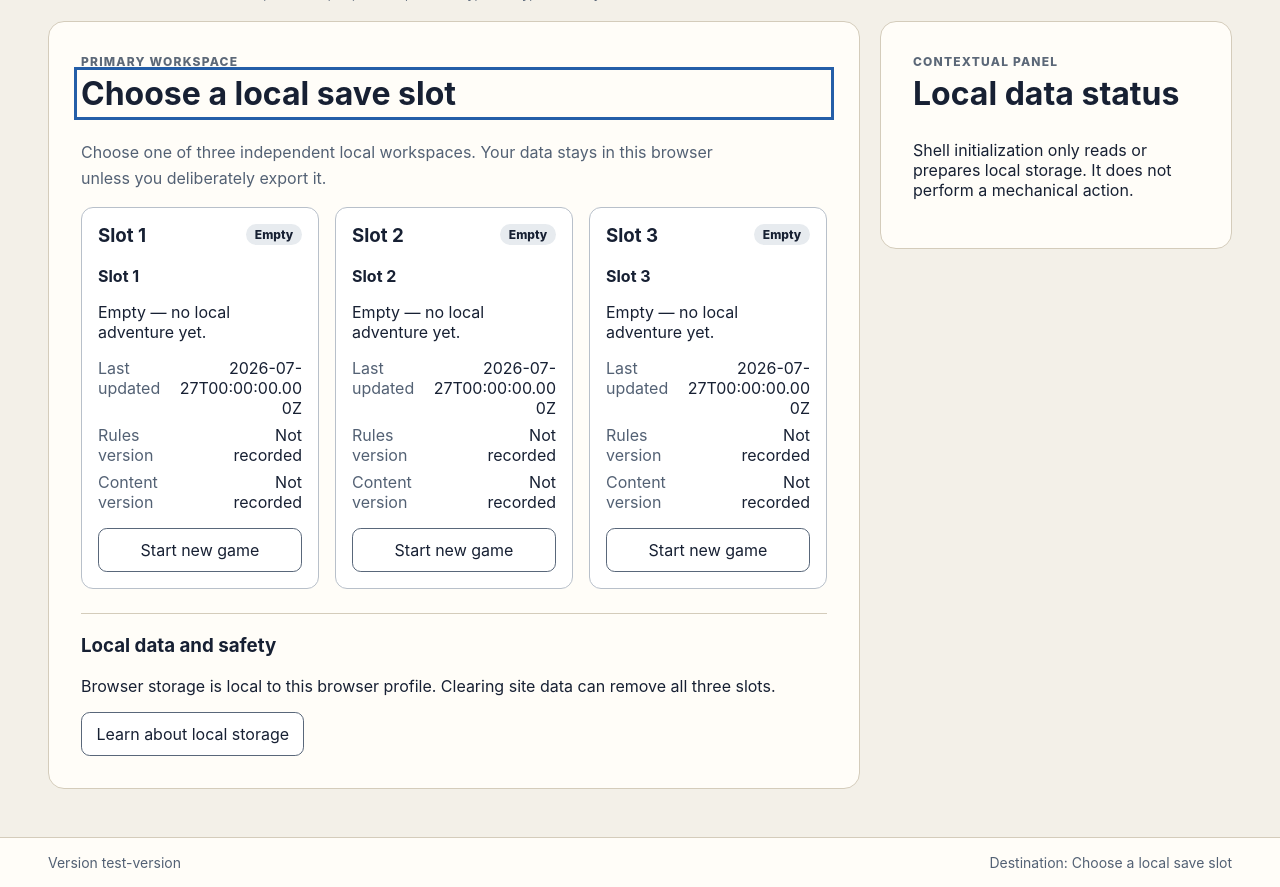
Scenario: App shell › links first-launch storage guidance to storage and privacy details
The image size is (1280, 887).
(page scrolled)
Expected: the heading "Choose a local save slot" is shown, [81,74,456,113]
Click the button "Learn about local storage": [193, 734] box [81,712,304,756]
(page scrolled)
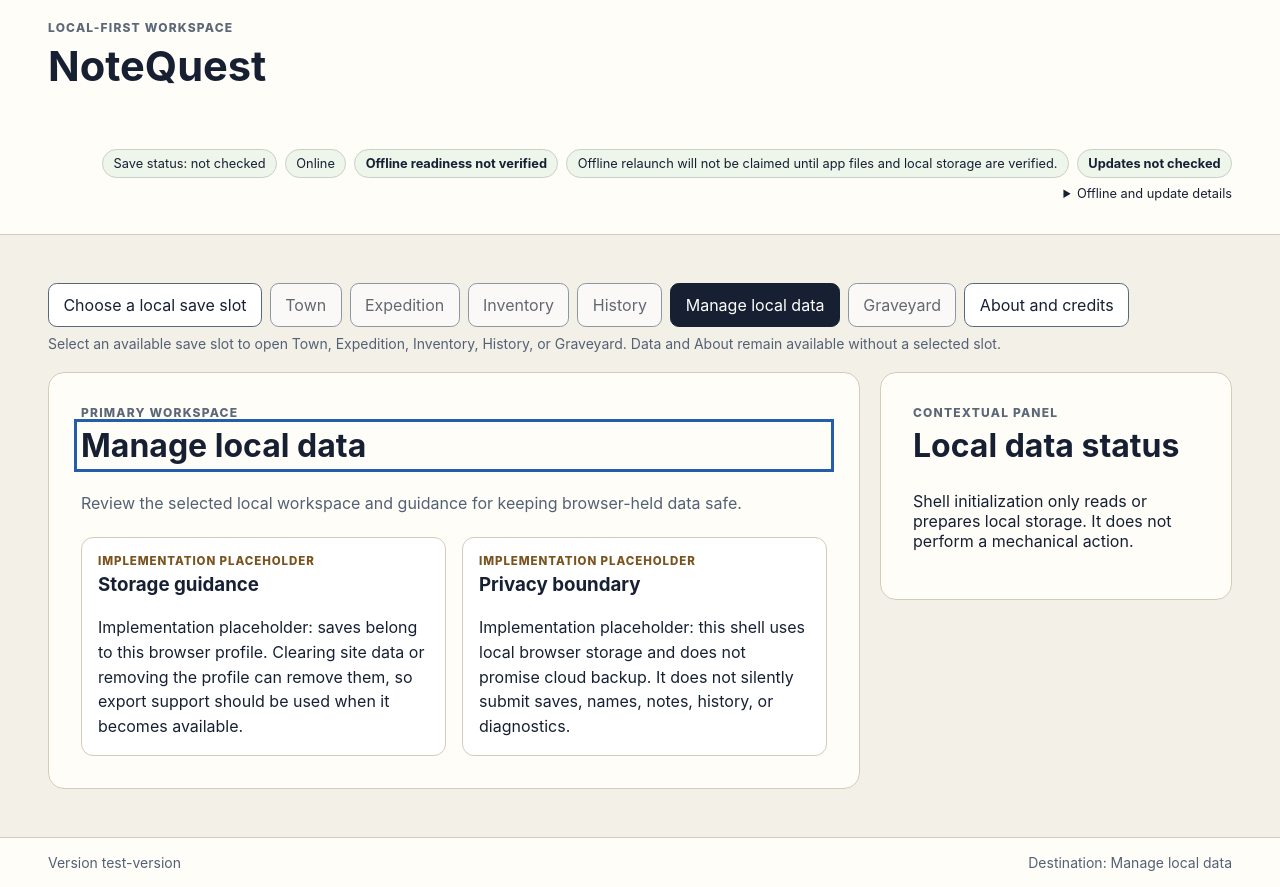
Result: the heading "Storage guidance" is shown at [98,573,259,596]
Result: the heading "Privacy boundary" is shown at [479,573,640,596]
